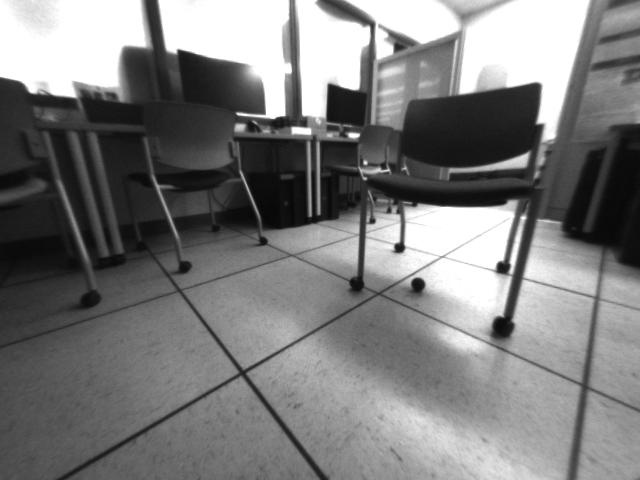dogtoy: (405, 272, 431, 295)
